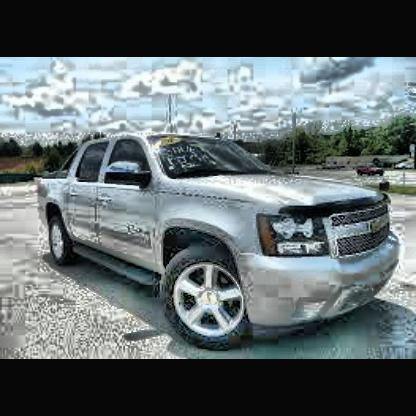Chevrolet Avalanche Crew Cab 2012: (37, 131, 403, 346)
